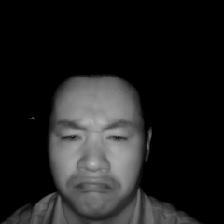sad: (43, 63, 152, 216)
